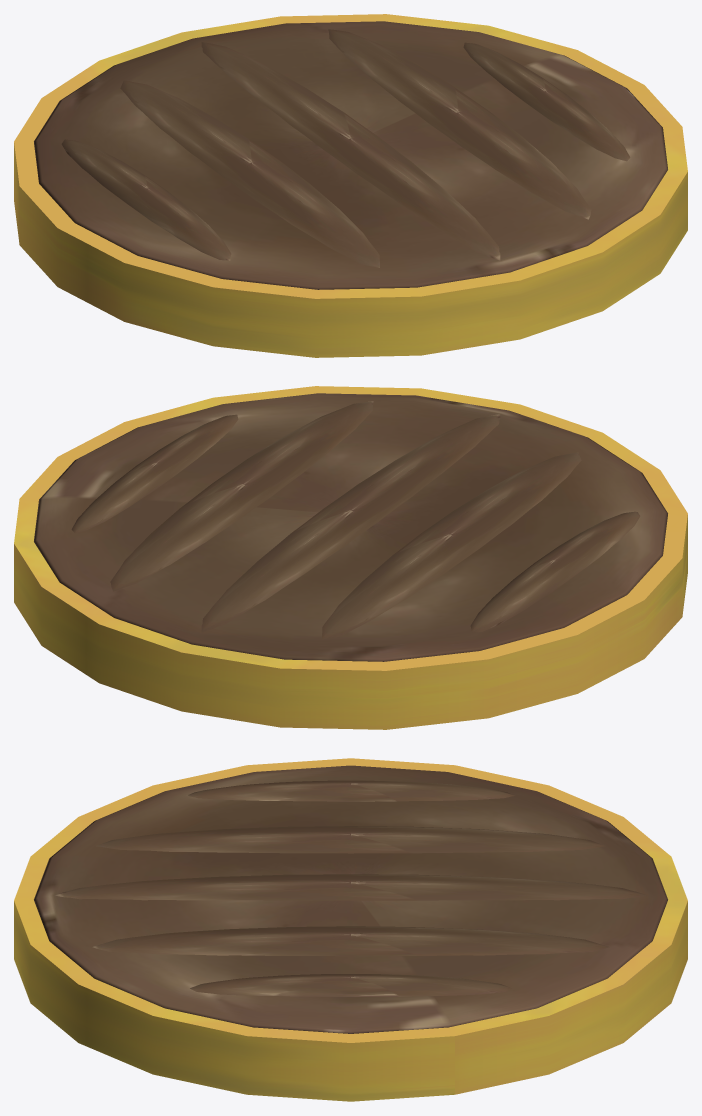
File: plotYellow.fbx
3 views of the same model, one above another, from view 1: azimuth 30°, elevation 25°; view 2: azimuth 150°, elevation 25°; view 3: azimuth 270°, elevation 25° (orthographic).
Parts seen in each view (by area): view 1: pSphere7, pCylinder1; view 2: pSphere7, pCylinder1; view 3: pSphere7, pCylinder1.
Part boxes in pixels (box(x1,y1,x2,y2)): pSphere7: box(34, 21, 667, 289); pCylinder1: box(14, 14, 687, 357); pSphere7: box(34, 393, 667, 661); pCylinder1: box(14, 386, 687, 729); pSphere7: box(34, 765, 667, 1033); pCylinder1: box(14, 758, 687, 1101).
Size of the model in its own units: 4.67 by 0.5852 by 4.67.
Materials: 2 (2 with a texture image).
